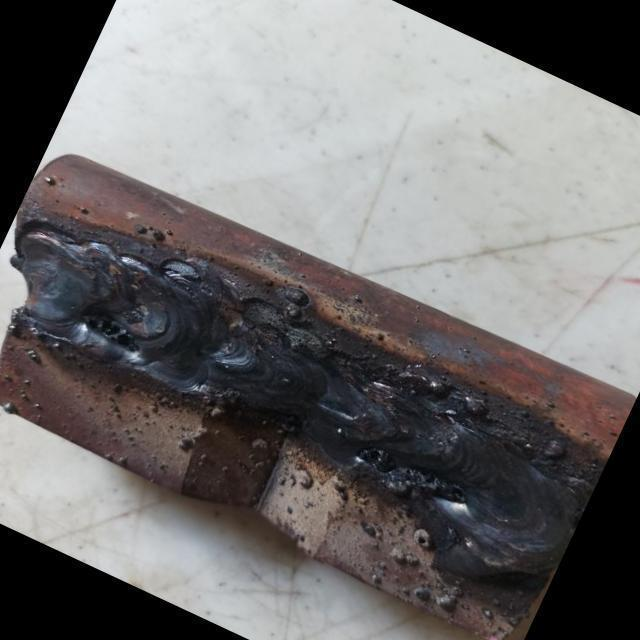defect: (392, 465, 470, 505), (77, 311, 144, 355), (355, 446, 398, 471)
